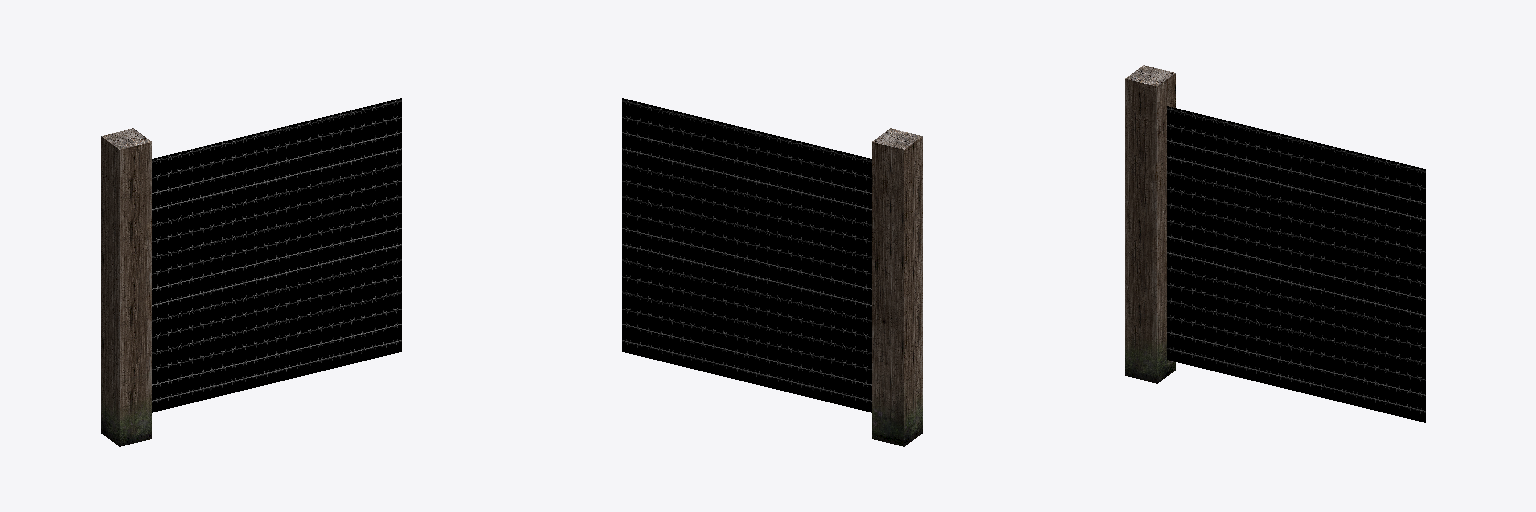
3 renders of one model, left to right at view 1: azimuth 30°, elevation 25°; view 2: azimuth 150°, elevation 25°; view 3: azimuth 330°, elevation 25°, orthographic.
Parts seen in each view (by area): view 1: Barbwire_fence001; view 2: Barbwire_fence001; view 3: Barbwire_fence001.
Part boxes in pixels (bbox=[...]): Barbwire_fence001: bbox=[101, 98, 401, 446]; Barbwire_fence001: bbox=[622, 98, 922, 446]; Barbwire_fence001: bbox=[1125, 65, 1425, 422].
Size of the model in its own units: 1800 by 1755 by 200.
Materials: 1 (1 with a texture image).